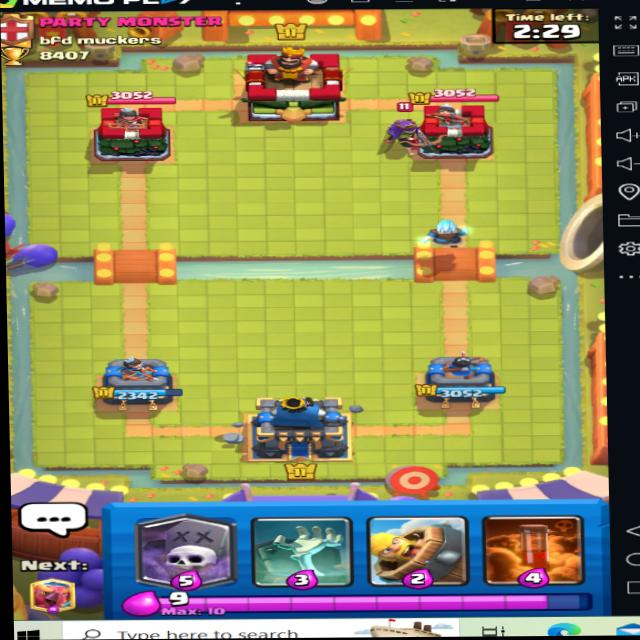archer-queen: (363, 97, 434, 164)
